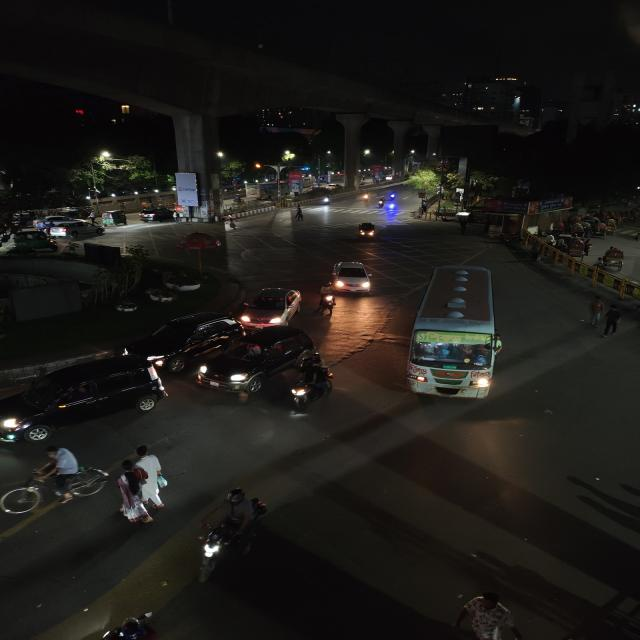bus: (404, 261, 511, 406)
car: (0, 356, 169, 446), (192, 324, 317, 399), (121, 310, 242, 373), (237, 284, 304, 326), (327, 259, 376, 295), (46, 216, 106, 238), (137, 206, 162, 222)
cng: (101, 209, 128, 227)
motorcycle: (193, 486, 268, 578), (282, 354, 338, 414), (315, 281, 339, 318), (353, 220, 381, 243), (316, 192, 334, 205), (387, 188, 399, 204), (358, 190, 372, 202), (373, 198, 386, 210)
pedestrian: (0, 443, 109, 524), (113, 458, 152, 524), (134, 443, 170, 511), (601, 303, 625, 336), (583, 295, 605, 328), (290, 205, 305, 223), (593, 223, 606, 239)
rickshaw: (452, 588, 532, 640), (604, 244, 627, 270)
